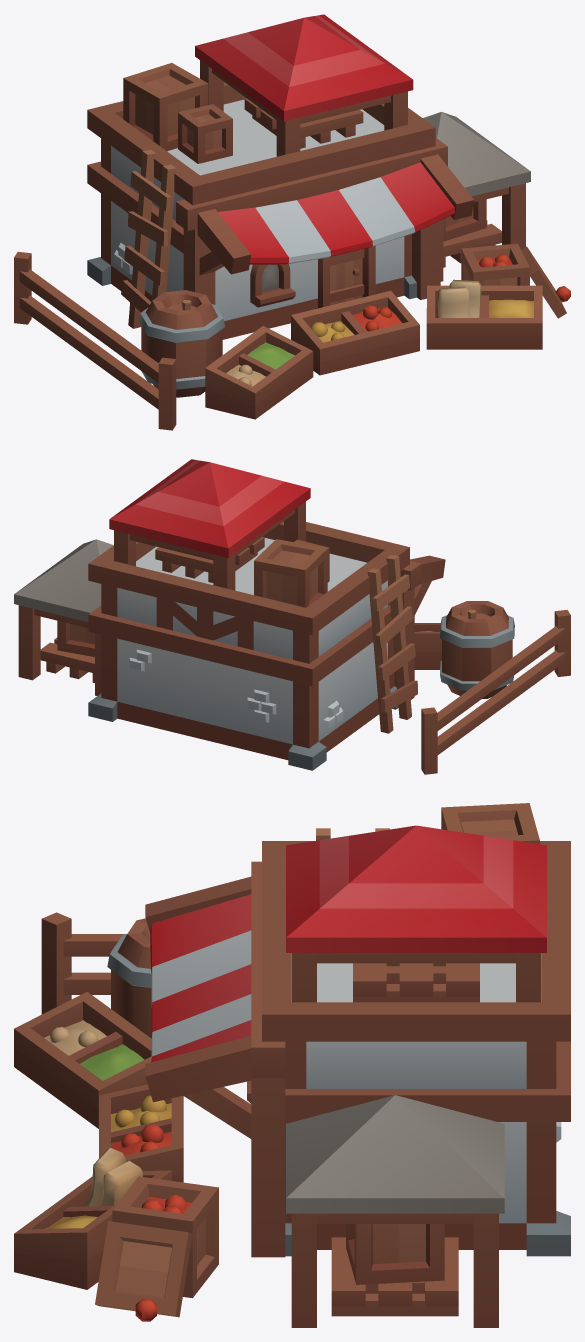
Rendered from H_market_red.glb.
3 views of the same model, one above another, from view 1: azimuth 30°, elevation 25°; view 2: azimuth 150°, elevation 25°; view 3: azimuth 270°, elevation 25° (orthographic). The views are drawn at different scales.
Parts seen in each view (by area): view 1: building_market_red; view 2: building_market_red; view 3: building_market_red.
Boxes of the visible parts, x1,y1,x2,y2 form: building_market_red: [14, 14, 570, 430]; building_market_red: [14, 459, 570, 774]; building_market_red: [14, 803, 570, 1327].
Size of the model in its own units: 1.8 by 0.9818 by 1.32.
